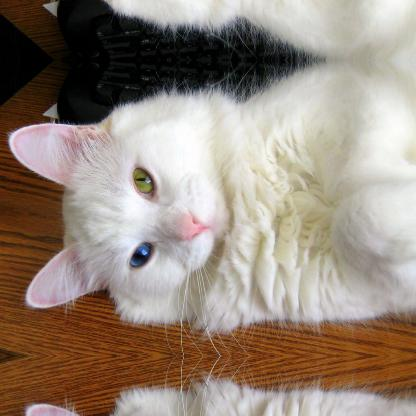Cat: (9, 58, 414, 354), (9, 0, 415, 60), (9, 356, 415, 415)
